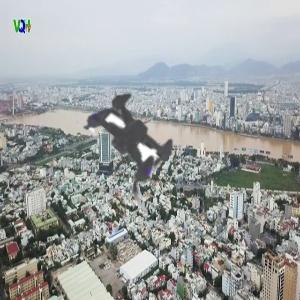drone: (22, 25, 238, 241)
